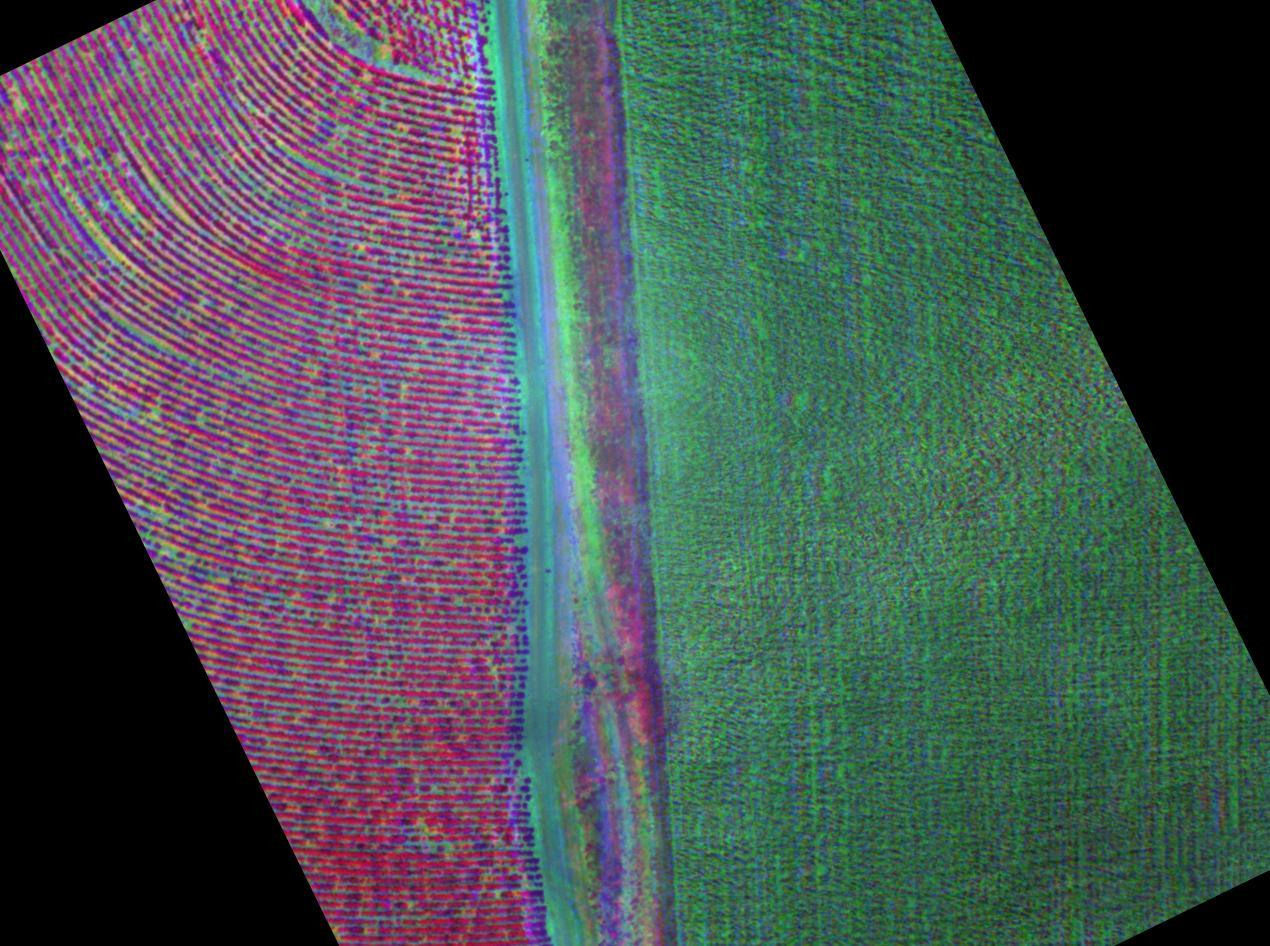dc: (251, 0, 446, 94), (203, 153, 313, 268), (23, 130, 115, 234), (111, 15, 200, 120), (96, 295, 170, 369)
